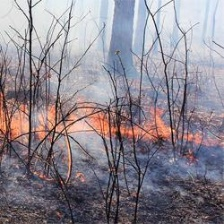fire: (1, 109, 188, 143)
